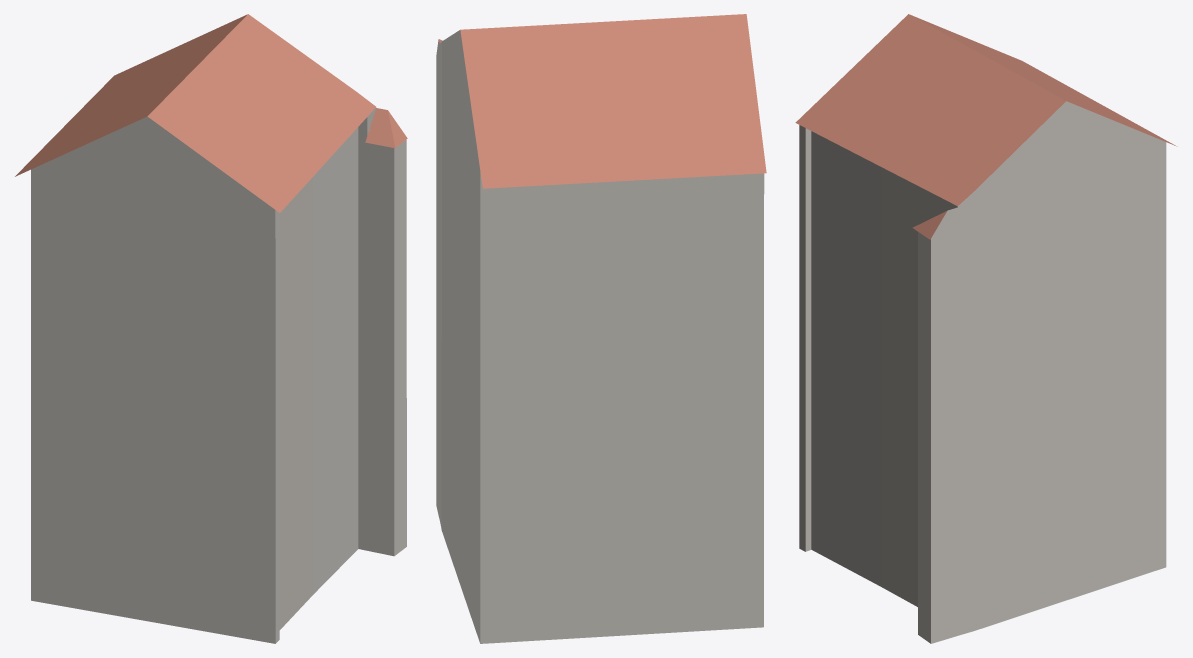
The picture shows the model from 3 angles, left to right: view 1: azimuth 30°, elevation 25°; view 2: azimuth 150°, elevation 25°; view 3: azimuth 270°, elevation 25°; orthographic projection. The views are drawn at different scales.
Visible parts, largest first — view 1: swisstopo:swissbuildings3d:4a6f8f35-e9e9-4c9c-9657-28278c3b4; view 2: swisstopo:swissbuildings3d:4a6f8f35-e9e9-4c9c-9657-28278c3b4; view 3: swisstopo:swissbuildings3d:4a6f8f35-e9e9-4c9c-9657-28278c3b4.
Part boxes in pixels (left/top/right/bottom): swisstopo:swissbuildings3d:4a6f8f35-e9e9-4c9c-9657-28278c3b4: left=15, top=14, right=407, bottom=643; swisstopo:swissbuildings3d:4a6f8f35-e9e9-4c9c-9657-28278c3b4: left=436, top=14, right=766, bottom=643; swisstopo:swissbuildings3d:4a6f8f35-e9e9-4c9c-9657-28278c3b4: left=795, top=14, right=1177, bottom=643.
Bounding box in the file's own units: 16.18 × 22.5 × 15.64.
